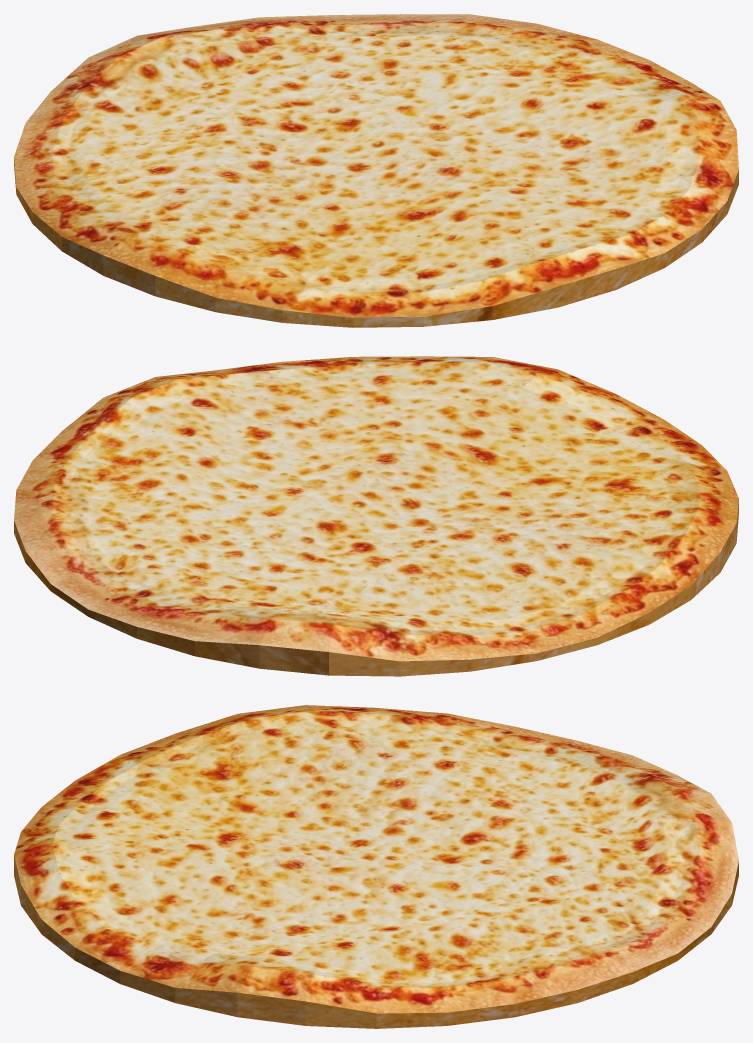
File: pizza.obj
The picture shows the model from 3 angles, top to bottom: view 1: azimuth 30°, elevation 25°; view 2: azimuth 150°, elevation 25°; view 3: azimuth 270°, elevation 25°; orthographic projection.
Parts seen in each view (by area): view 1: Pizza; view 2: Pizza; view 3: Pizza.
Part boxes in pixels (x1,y1,x2,y2): Pizza: [14, 14, 738, 327]; Pizza: [14, 356, 738, 676]; Pizza: [14, 705, 738, 1028].
Size of the model in its own units: 2 by 0.1079 by 2.
Materials: 2 (2 with a texture image).
